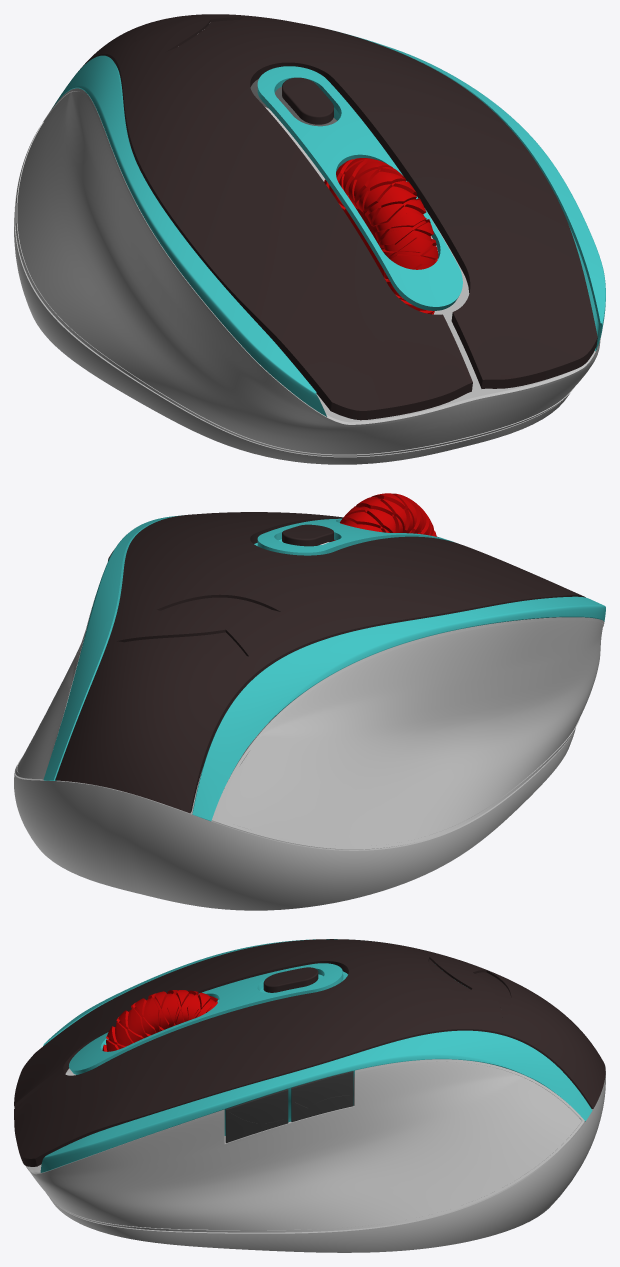
File: mis_wireless.glb
3 views of the same model, one above another, from view 1: azimuth 30°, elevation 25°; view 2: azimuth 150°, elevation 25°; view 3: azimuth 270°, elevation 25° (orthographic). The views are drawn at different scales.
Parts seen in each view (by area): view 1: Mesh_171, Mesh_2, Mesh_11, Mesh_9, Mesh_4, Mesh_3, Mesh_166, Mesh_10; view 2: Mesh_2, Mesh_171, Mesh_4, Mesh_11, Mesh_3, Mesh_9, Mesh_169, Mesh_170, Mesh_10; view 3: Mesh_2, Mesh_171, Mesh_4, Mesh_3, Mesh_9, Mesh_1, Mesh_0, Mesh_166, Mesh_10, Mesh_11, Mesh_169, Mesh_170.
Part boxes in pixels (x1,y1,x2,y2): Mesh_171: [78, 14, 597, 420]; Mesh_2: [15, 79, 600, 456]; Mesh_11: [52, 55, 326, 416]; Mesh_9: [257, 66, 462, 310]; Mesh_4: [14, 107, 569, 464]; Mesh_3: [333, 32, 605, 351]; Mesh_166: [343, 163, 435, 310]; Mesh_10: [282, 77, 333, 124]; Mesh_2: [15, 597, 604, 849]; Mesh_171: [55, 512, 585, 813]; Mesh_4: [14, 728, 575, 910]; Mesh_11: [192, 596, 605, 821]; Mesh_3: [43, 515, 320, 780]; Mesh_9: [257, 518, 453, 555]; Mesh_169: [127, 633, 244, 655]; Mesh_170: [161, 597, 270, 617]; Mesh_10: [282, 524, 333, 546]; Mesh_2: [26, 1059, 584, 1232]; Mesh_171: [14, 939, 605, 1166]; Mesh_4: [50, 1064, 605, 1252]; Mesh_3: [40, 1030, 592, 1172]; Mesh_9: [69, 963, 343, 1074]; Mesh_1: [291, 1071, 353, 1121]; Mesh_0: [225, 1089, 288, 1142]; Mesh_166: [106, 993, 217, 1051]; Mesh_10: [263, 967, 318, 992]; Mesh_11: [43, 939, 347, 1045]; Mesh_169: [476, 972, 510, 1022]; Mesh_170: [428, 959, 471, 1001].
Bounding box in the file's own units: 3.12 × 1.84 × 4.84.
